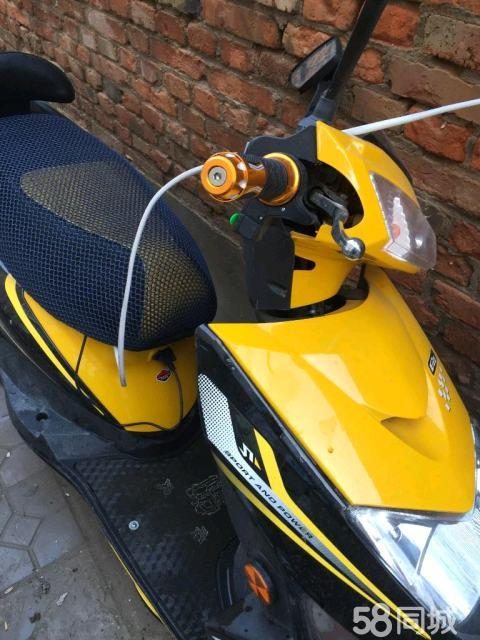电动车: (1, 7, 480, 636)
